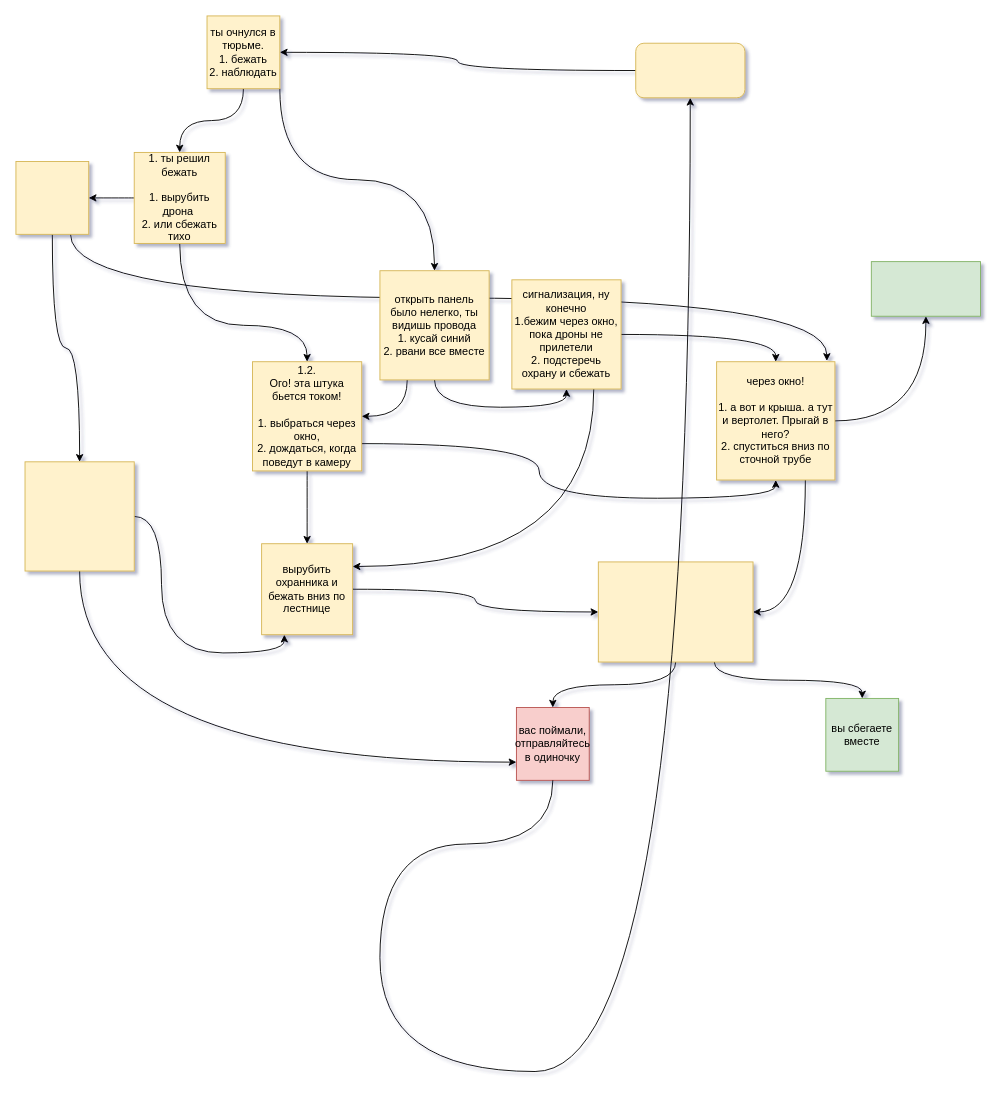
This 1002x1094 diagram has some shape labels left out. The centre of each missing label's shape, as x and y in pixels:
"2. ты решил бежать тихо." goes at [52,197].
"одиночная камера" goes at [690,70].
"сговориться с охранником? да, нет" goes at [79,516].
"ты видишь, как кто-то спасается бегством. помочь? 1. конечно! 2. оставить его" goes at [675,611].
"ты спасся! Улетай скорее" goes at [925,288].
